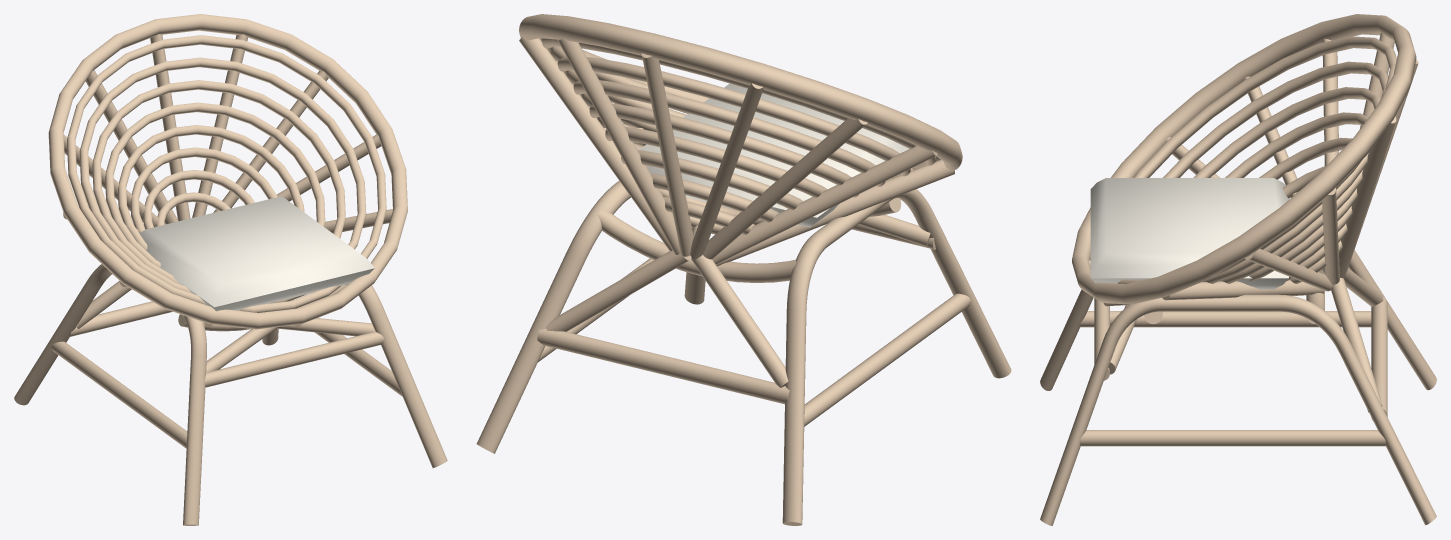
Rendered from coastal_rattan_chair.glb.
3 renders of one model, left to right at view 1: azimuth 30°, elevation 25°; view 2: azimuth 150°, elevation 25°; view 3: azimuth 270°, elevation 25°, orthographic. The views are drawn at different scales.
Parts seen in each view (by area): view 1: Material2 (×18); view 2: Material2 (×16); view 3: Material2 (×19).
Boxes of the visible parts, x1,y1,x2,y2 form: Material2 (×18): (14, 14, 447, 525); Material2 (×16): (476, 14, 1011, 525); Material2 (×19): (1040, 14, 1436, 525).
Bounding box in the file's own units: 29.87 × 31.63 × 27.65.
